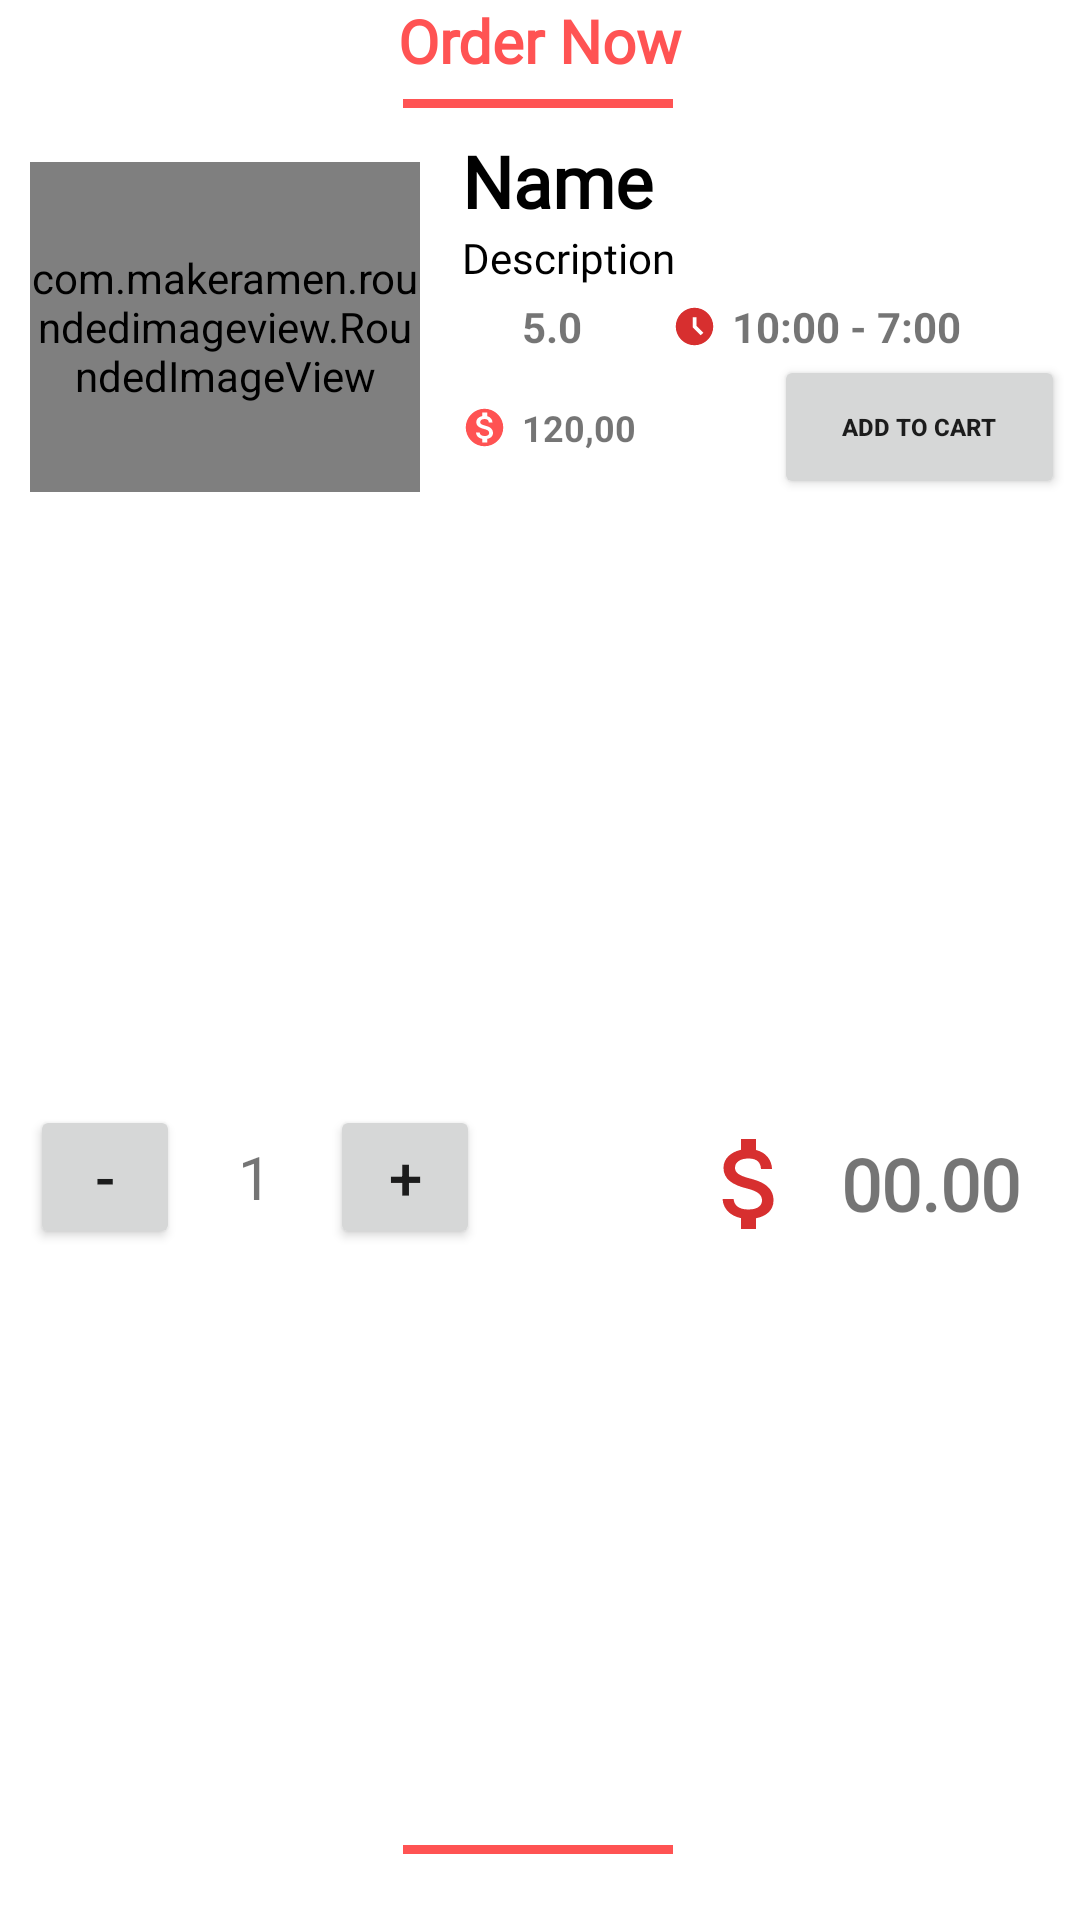

Screen size 1080w x 1920h. Icon name, then its center in pixels as (x,y):
access time: (694,326)
attach money dollar: (748,1184)
monetization on: (484,427)
